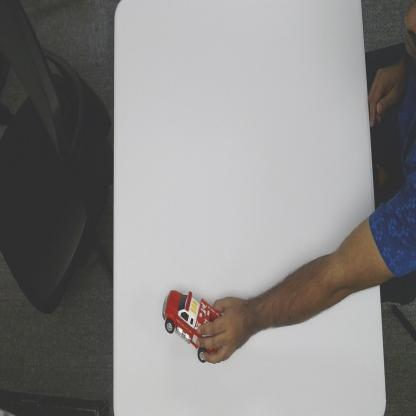Arm: (252, 201, 373, 338)
Firetruck: (161, 283, 213, 365)
Hand: (200, 292, 251, 366)
